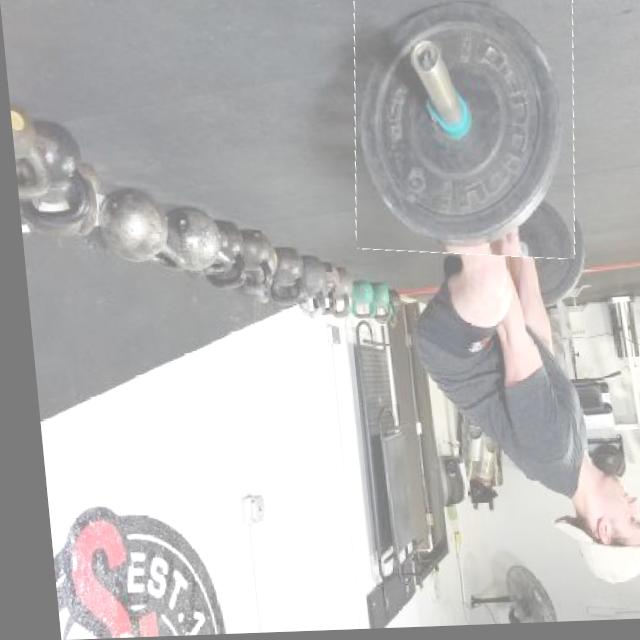barbell: (339, 1, 587, 265)
